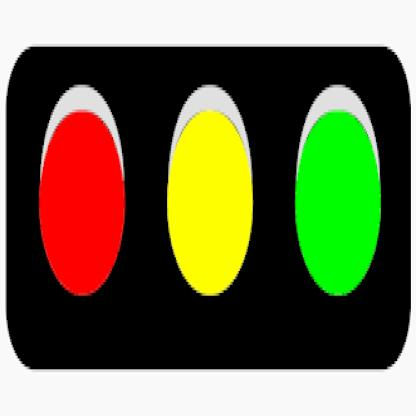traffic-light: (13, 46, 404, 366)
